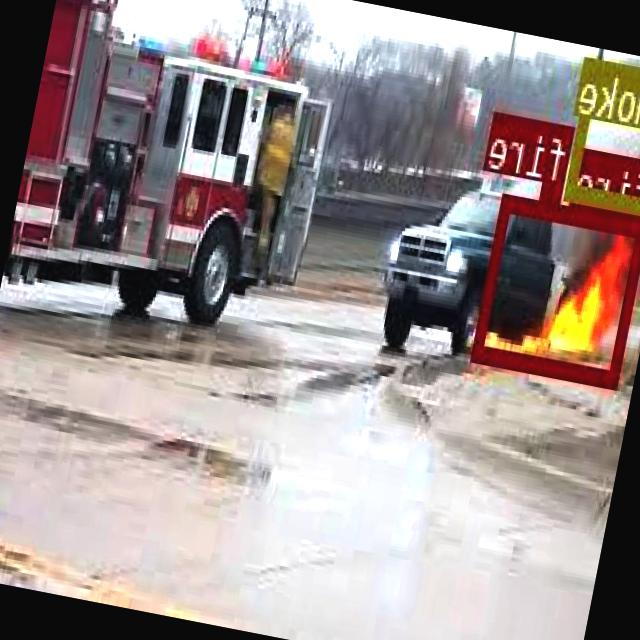fire: (473, 193, 640, 385), (538, 182, 564, 218)
smoke: (568, 55, 640, 212)
